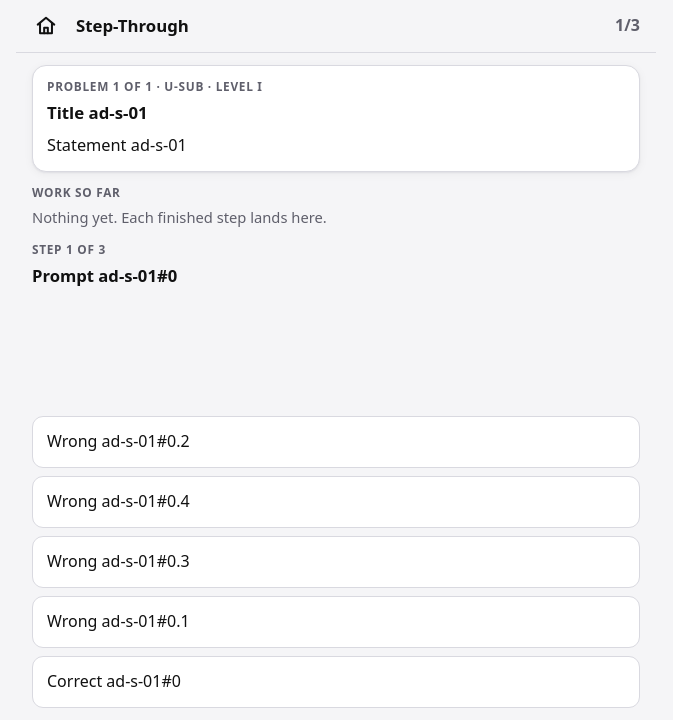
Test case: double-tap guard › never blocks keyboard activation (click.detail === 0)
Click the button with class "opt" showing "Wrong ad-s-01#0.2" at coordinates (118, 441), box [32,416,640,468]
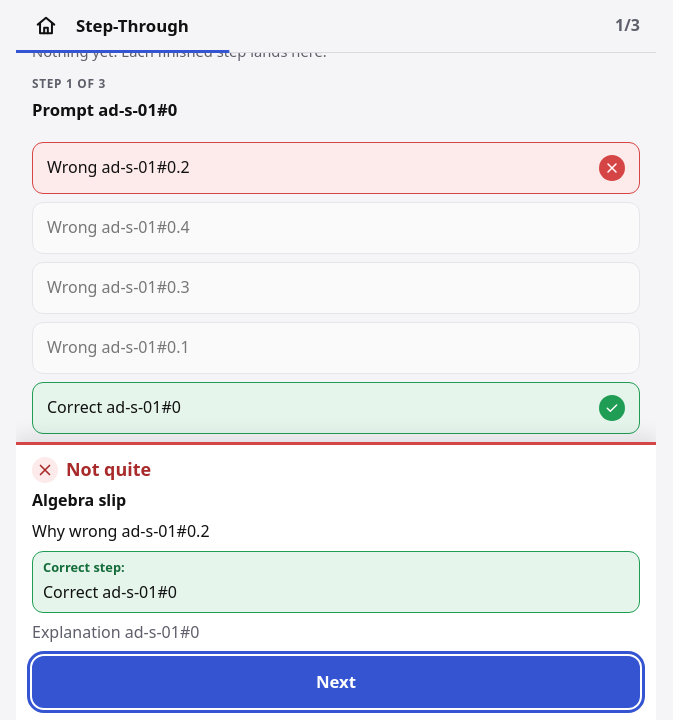
Expected: the element with class "feedback" is shown, [16,442,656,719]
Click the button "Next" at coordinates (336, 682), box [32,656,640,708]
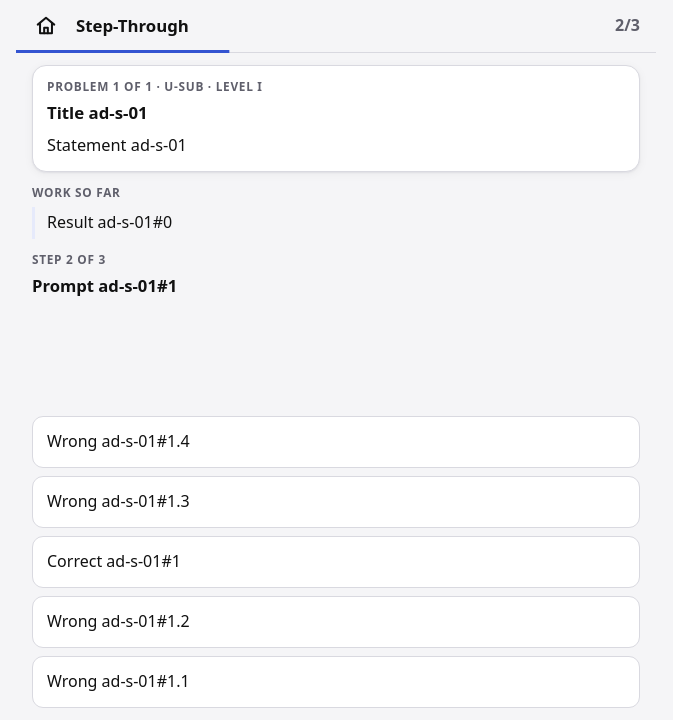
Expected: the text "Prompt ad-s-01#1" is shown, [32,274,177,297]
